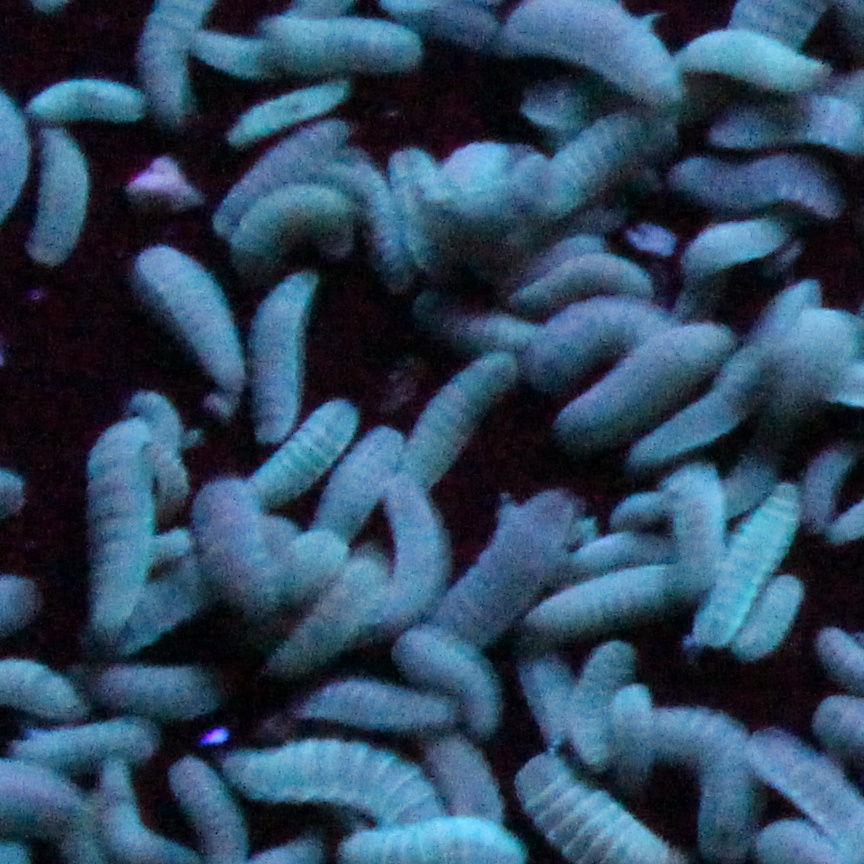larve: (553, 325, 734, 448), (442, 491, 570, 637), (230, 736, 442, 823), (694, 480, 798, 651), (391, 349, 518, 489), (134, 246, 249, 394), (82, 422, 151, 648), (537, 106, 675, 218), (192, 479, 287, 622), (273, 554, 382, 675), (532, 561, 689, 642), (242, 399, 358, 503), (673, 149, 844, 217), (253, 277, 318, 449), (399, 627, 503, 734), (672, 27, 829, 94), (235, 184, 354, 268), (565, 639, 641, 768), (320, 423, 398, 536), (258, 22, 422, 75), (510, 253, 658, 311), (225, 84, 353, 146), (685, 211, 794, 280), (94, 665, 223, 723), (34, 127, 87, 267), (310, 689, 453, 730), (735, 573, 801, 660), (27, 79, 142, 127)
